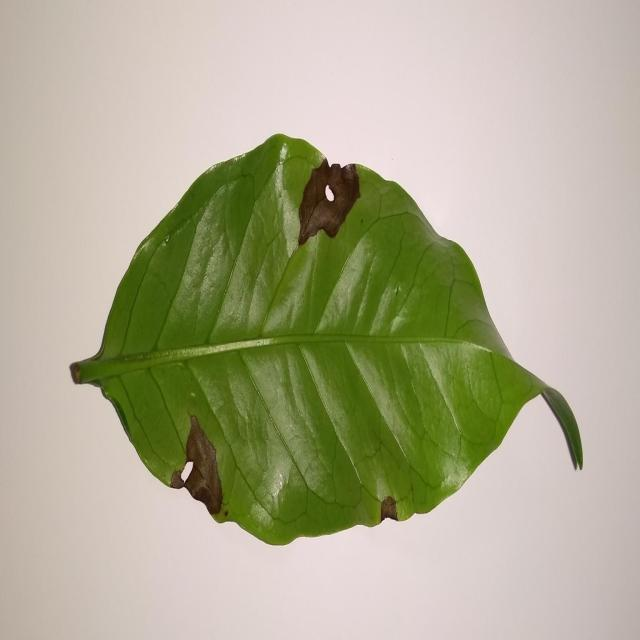phoma: (170, 416, 228, 521), (298, 159, 360, 246), (380, 496, 401, 522)
